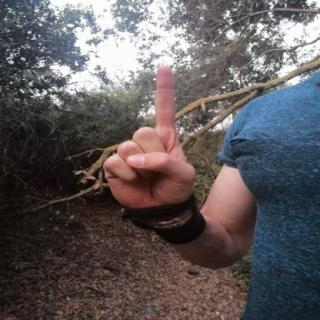BAA: (91, 61, 214, 224)
